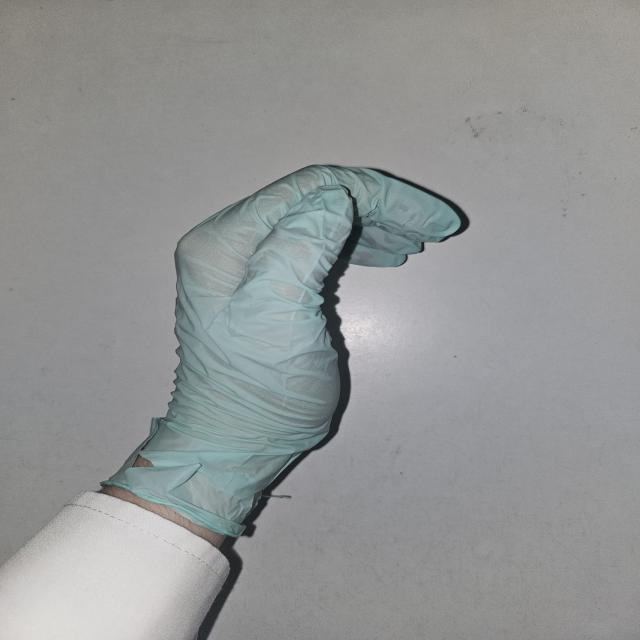gloves_damaged: (98, 163, 462, 542)
